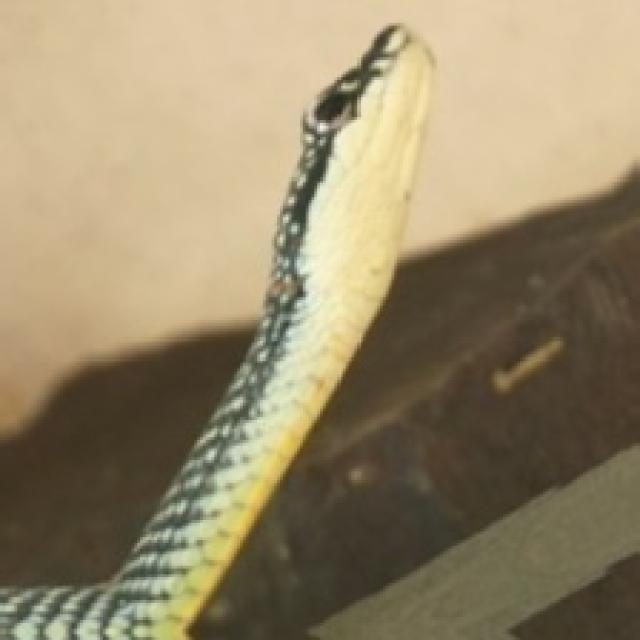paradise tree snake: (0, 26, 431, 637)
